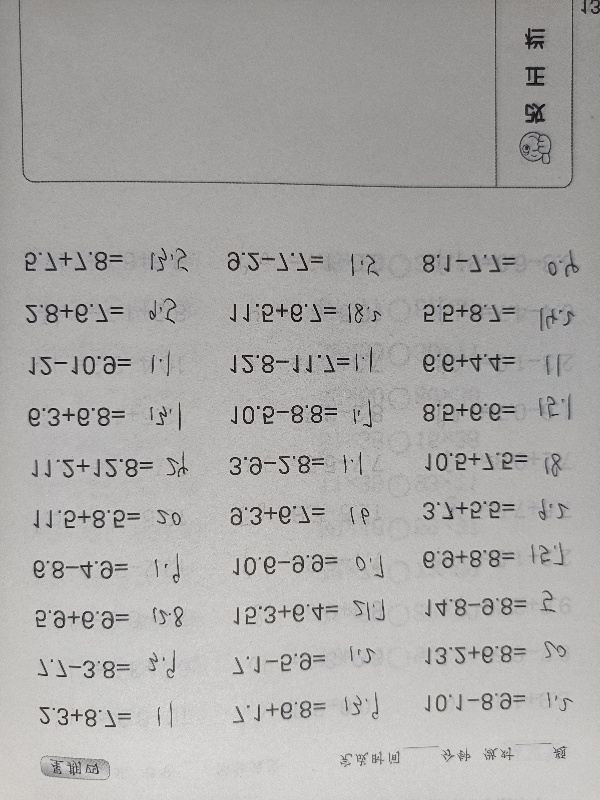equation: (221, 339, 401, 381), (221, 295, 401, 331), (219, 244, 399, 279), (16, 244, 196, 279), (413, 246, 593, 281), (17, 296, 197, 331), (21, 348, 201, 383), (20, 399, 200, 434), (24, 451, 204, 486), (25, 552, 205, 587), (415, 296, 595, 330), (414, 346, 594, 380), (414, 395, 594, 429), (221, 398, 401, 432), (415, 445, 595, 479), (220, 449, 400, 483), (414, 494, 594, 528), (221, 499, 401, 533), (25, 502, 205, 536), (413, 542, 593, 576), (223, 548, 403, 582), (416, 590, 596, 624), (225, 597, 405, 631), (26, 603, 206, 637), (223, 646, 403, 680), (29, 653, 209, 687), (224, 695, 404, 729), (31, 701, 211, 735), (416, 639, 596, 672), (416, 686, 596, 719)
